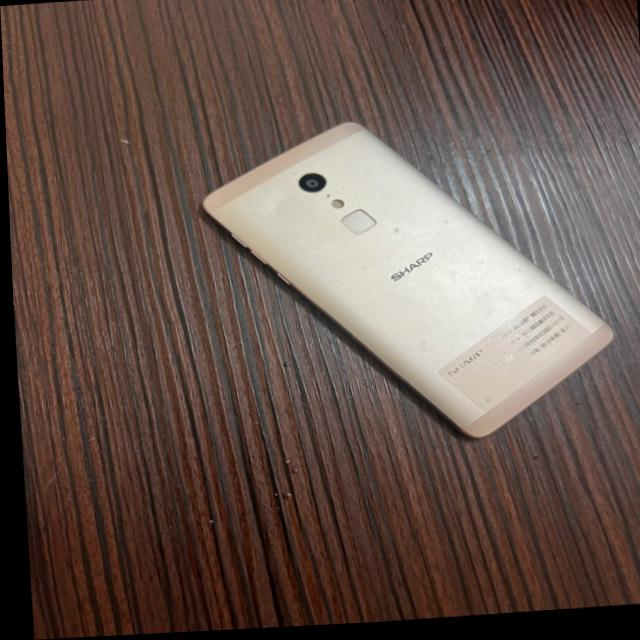Smartphone: (174, 103, 640, 480)
